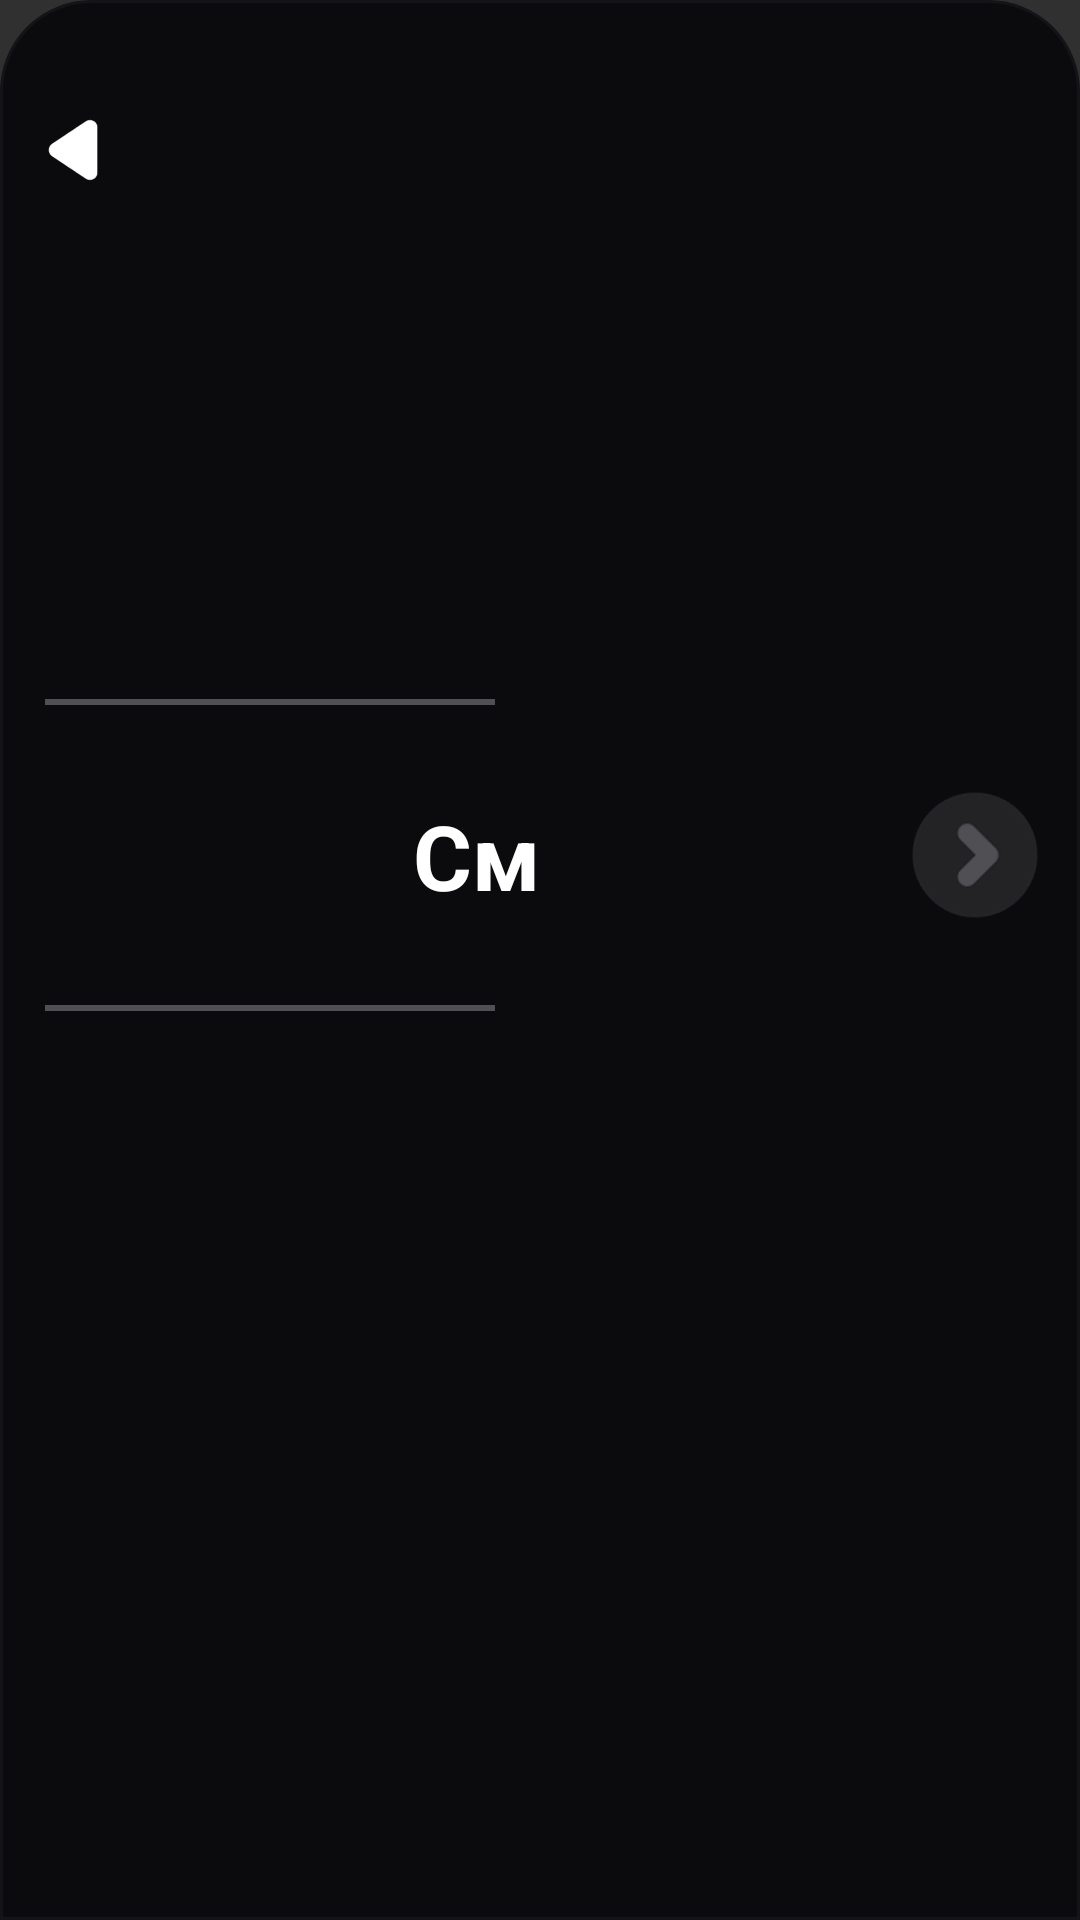

Icon click points for this 1080w x 1920h phone screenshot, format [x,y]:
back: [73,150]
continue: [975,855]
